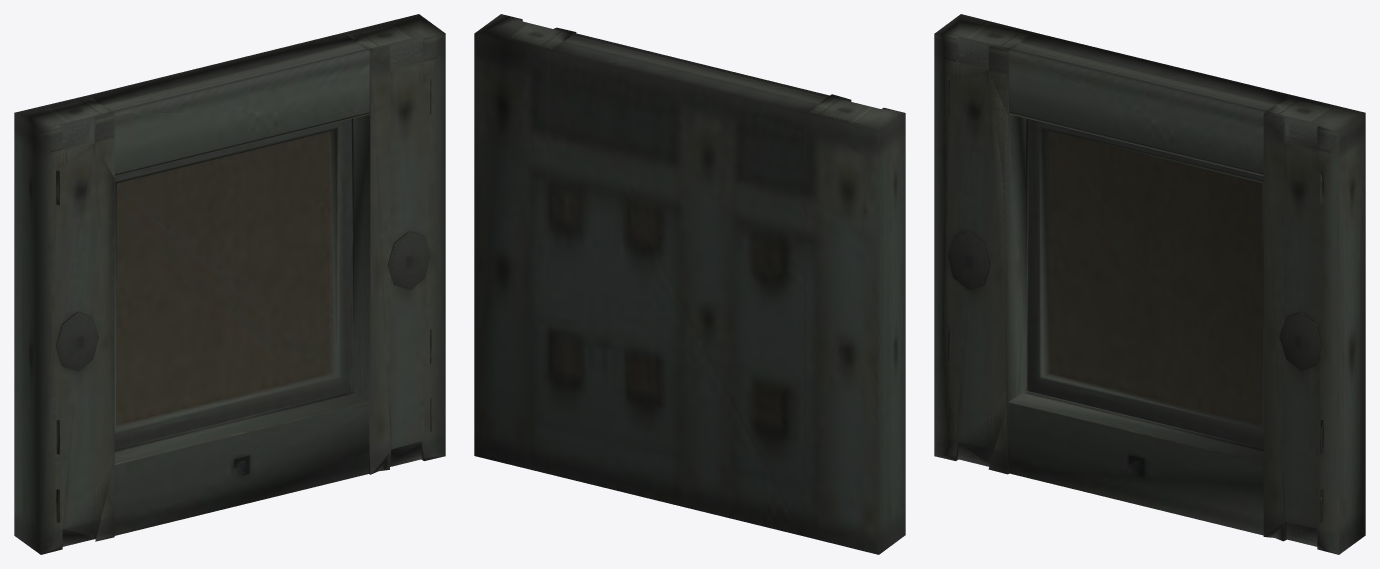
3 views of the same model, side by side, from view 1: azimuth 30°, elevation 25°; view 2: azimuth 150°, elevation 25°; view 3: azimuth 330°, elevation 25° (orthographic).
Size of the model in its own units: 4 by 4 by 0.5.
1 material, 1 textured.
